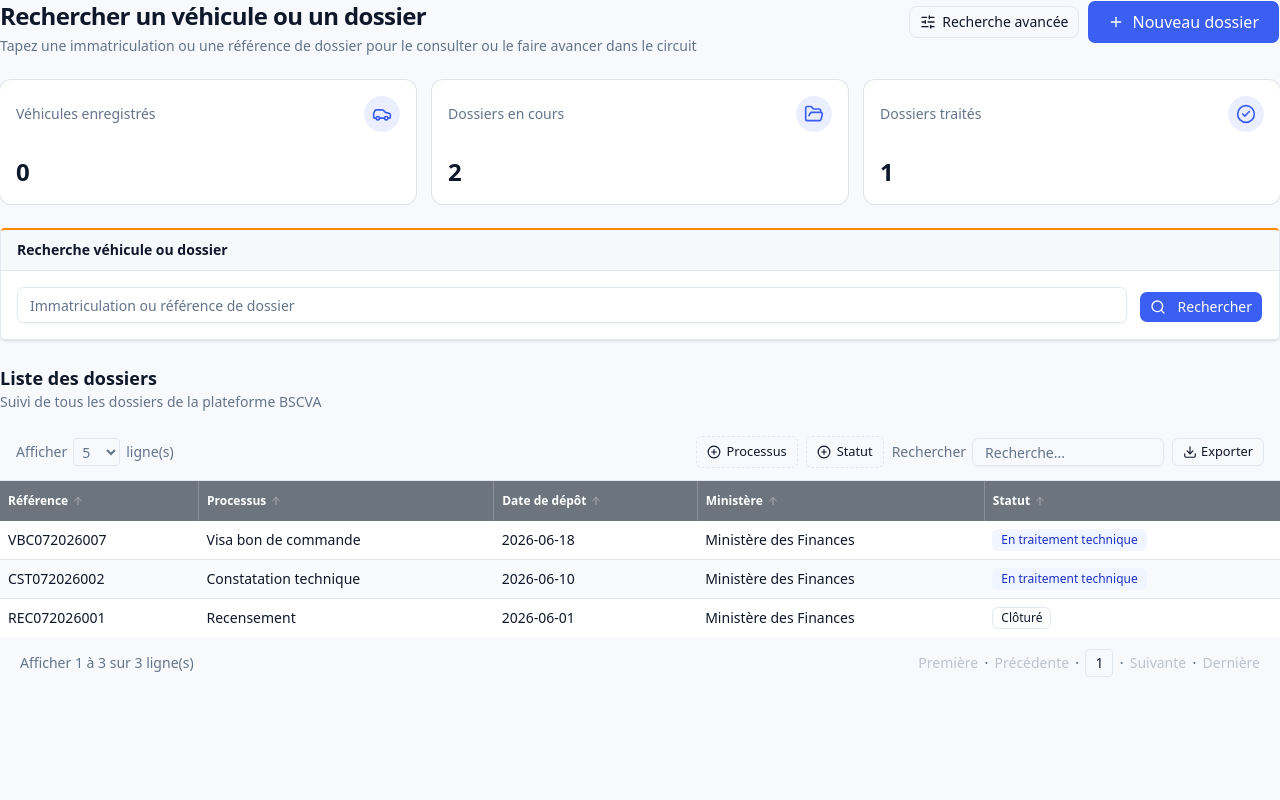
Test: TraitementDossierPage — recherche avancée (liste) › search panel is closed by default and toggles open
The width and height of the screenshot is (1280, 800).
Click the button with test id "dossiers-search-toggle-button" at (994, 22), box top-left (909, 6), bottom-right (1080, 38)
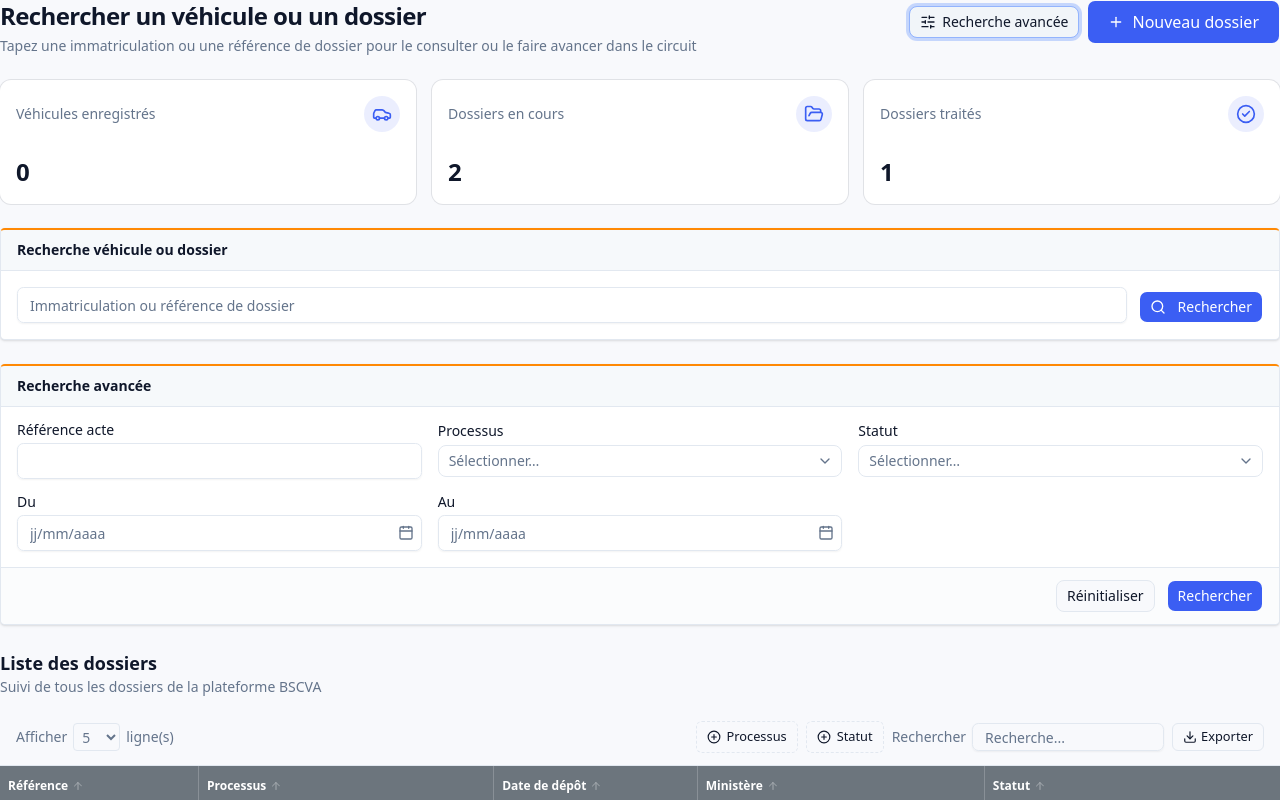
Now the form with test id "dossiers-search-form" is shown, box top-left (0, 364), bottom-right (1279, 625)
